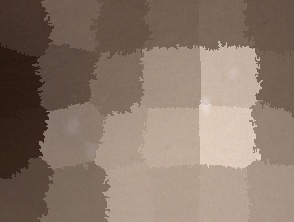vitiligo: (43, 109, 117, 182), (214, 56, 251, 90), (193, 91, 220, 123)
